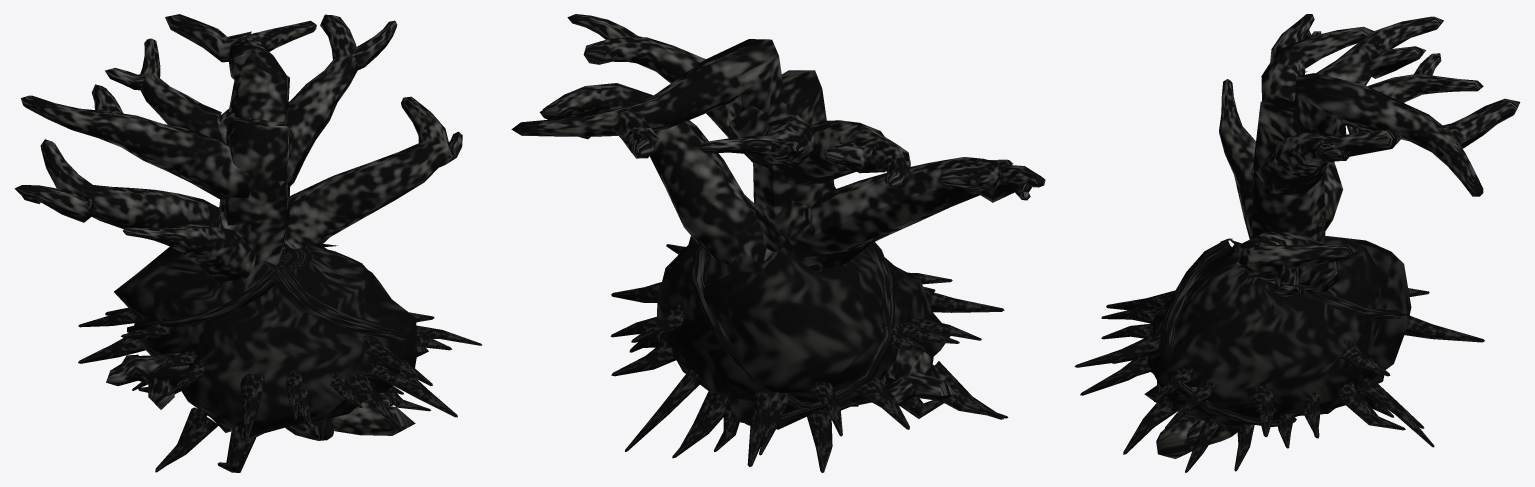
The model's file is ZonTreeDead203.glb.
3 views of the same model, side by side, from view 1: azimuth 30°, elevation 25°; view 2: azimuth 150°, elevation 25°; view 3: azimuth 270°, elevation 25° (orthographic). The views are drawn at different scales.
Visible parts, largest first — view 1: ZonTreeDead203_limbs; view 2: ZonTreeDead203_limbs; view 3: ZonTreeDead203_limbs.
Boxes of the visible parts, box(x1,y1,x2,y2) form: ZonTreeDead203_limbs: box(14, 14, 481, 472); ZonTreeDead203_limbs: box(511, 14, 1045, 472); ZonTreeDead203_limbs: box(1074, 14, 1520, 472).
Size of the model in its own units: 6.81 by 5.09 by 5.69.
Materials: 1 (1 with a texture image).
